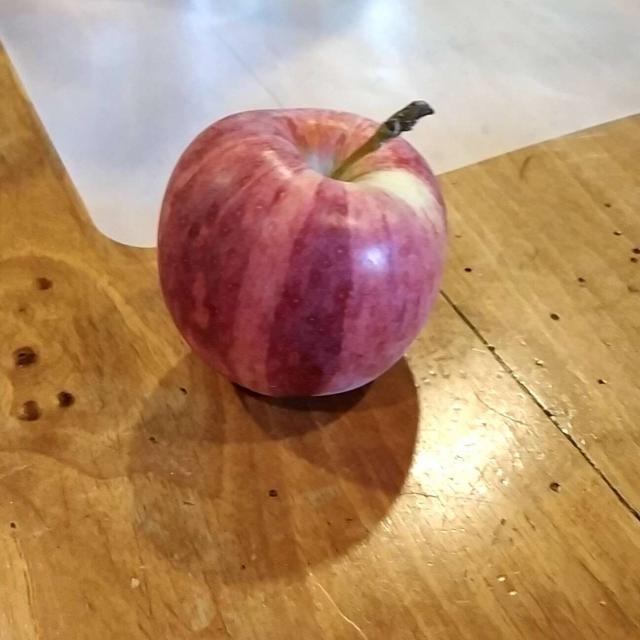apple: (156, 106, 447, 396)
